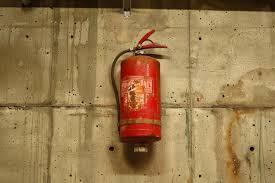wall-mounted: (107, 27, 193, 169)
